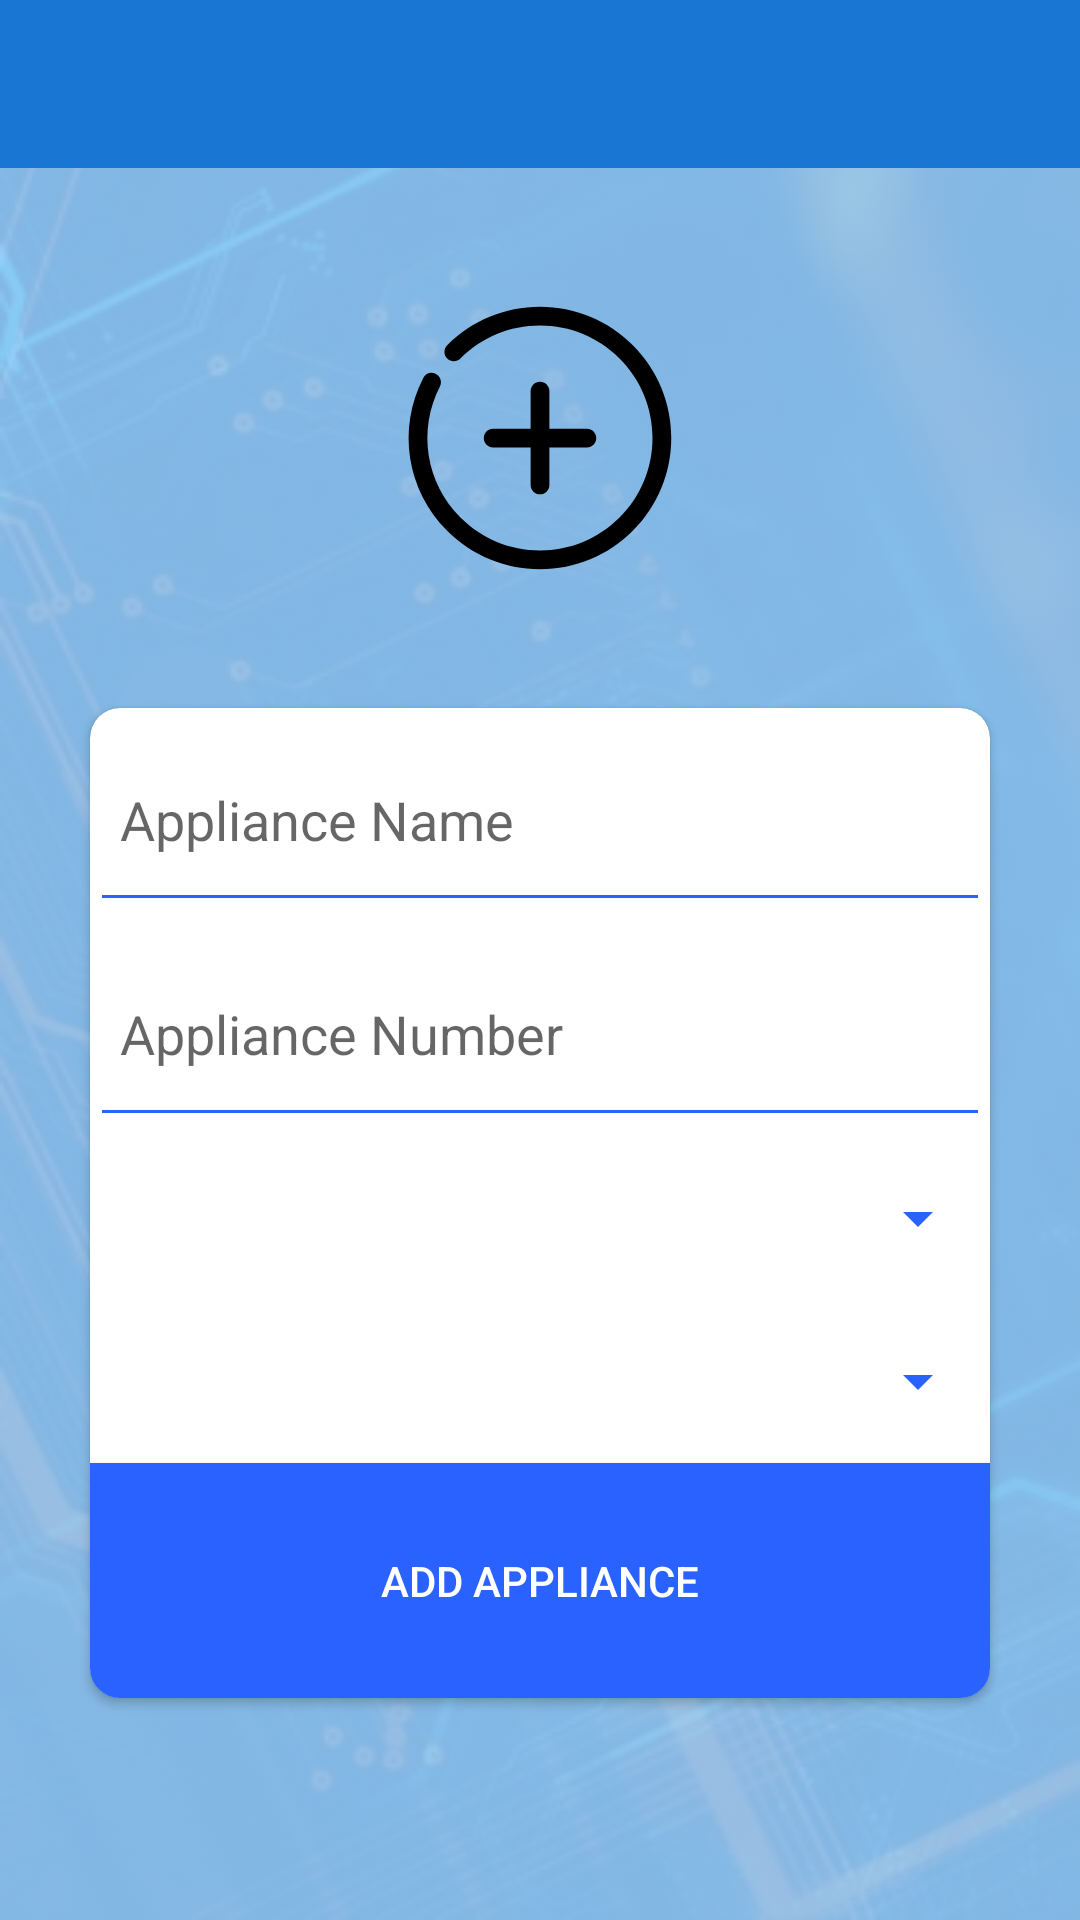

Where to tap for icons on this 1080x1920 app screen, as point (x, y):
add: point (540, 438)
